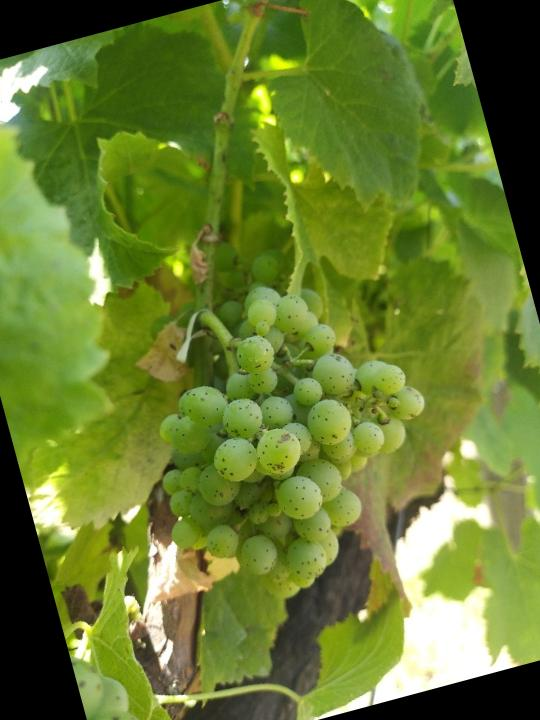grape: (114, 250, 468, 626)
